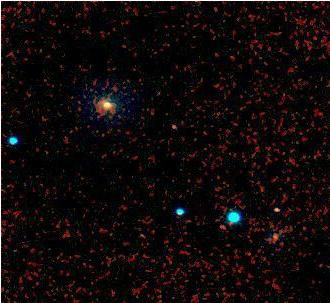star: (200, 213, 230, 243)
